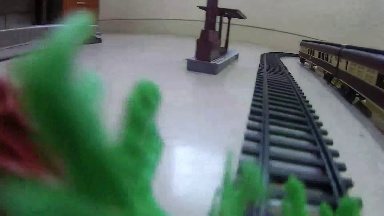tree: (5, 28, 366, 216)
